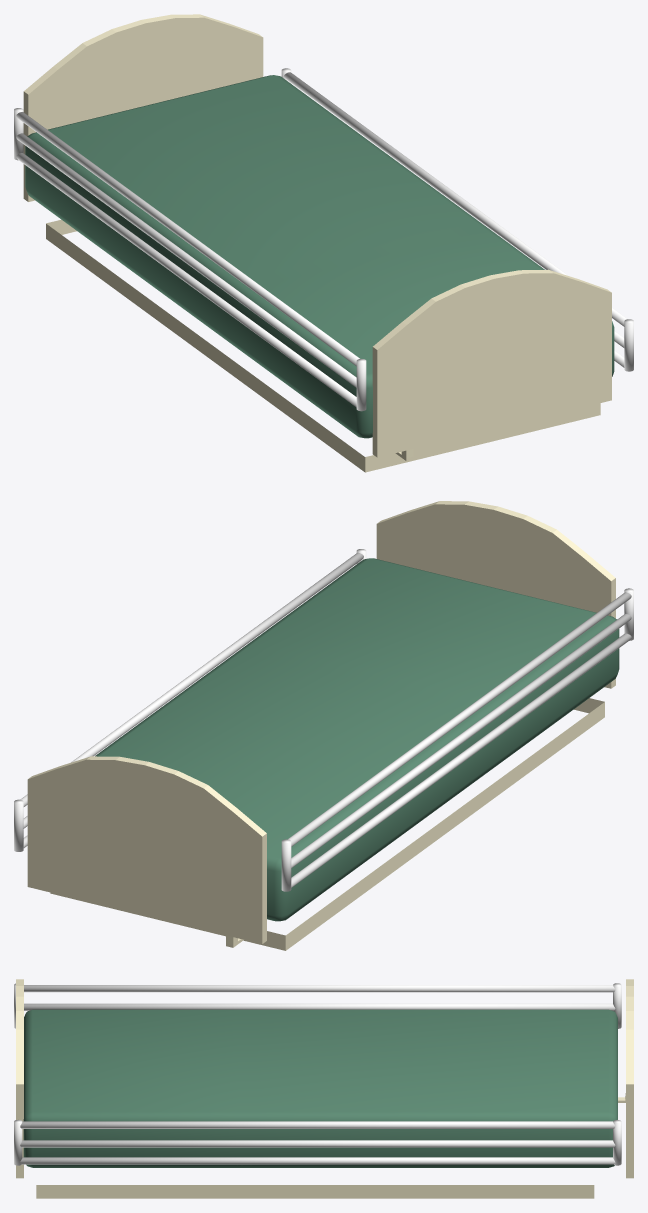
Rendered from HospitalBed.fbx.
3 views of the same model, one above another, from view 1: azimuth 30°, elevation 25°; view 2: azimuth 150°, elevation 25°; view 3: azimuth 270°, elevation 25° (orthographic). The views are drawn at different scales.
Visible parts, largest first — view 1: HospitalBedEndPlate2; view 2: HospitalBedEndPlate2; view 3: HospitalBedEndPlate2.
Part boxes in pixels (x1,y1,x2,y2): HospitalBedEndPlate2: (14, 14, 633, 472); HospitalBedEndPlate2: (14, 501, 633, 950); HospitalBedEndPlate2: (14, 979, 633, 1198).
Bounding box in the file's own units: 101 × 60.52 × 224.
